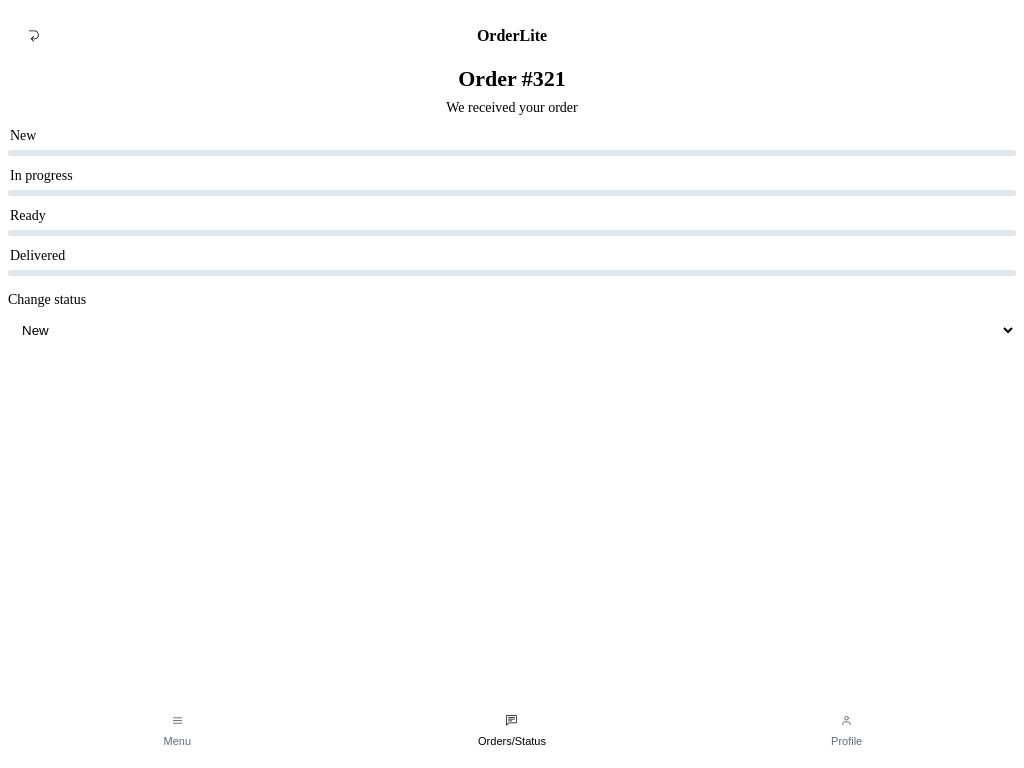
Test: OrderStatusScreen › allows admin to change status and sends PATCH
expect the heading "Order #321" is shown: met, box [458, 66, 566, 91]
expect the text "We received your order" is shown: met, box [446, 100, 578, 115]
Select "Ready" in the dropdown at (512, 331), box [8, 314, 1016, 347]
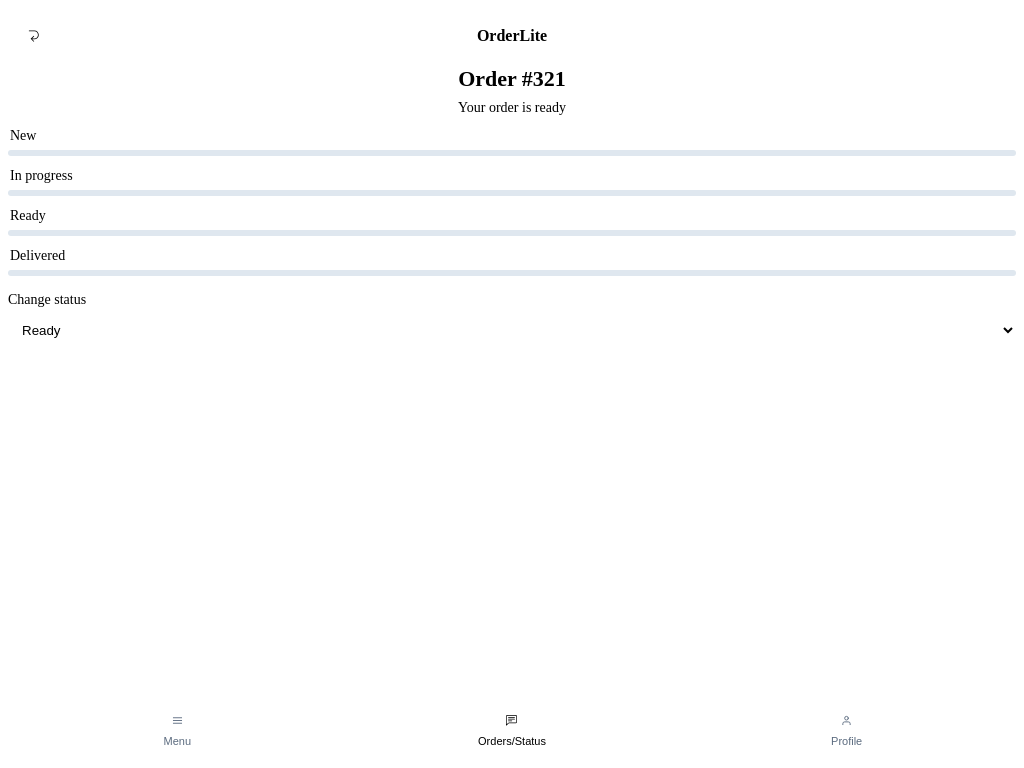
expect the text "Your order is ready" is shown: met, box [458, 100, 566, 115]
